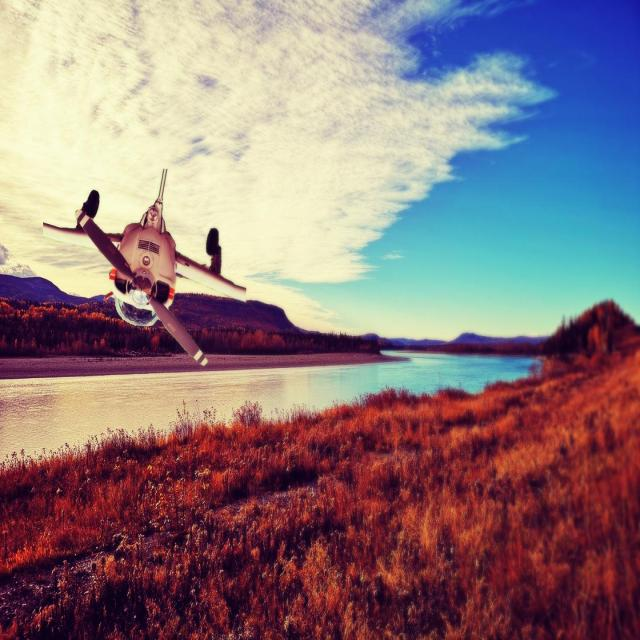airplane: (42, 167, 246, 366)
